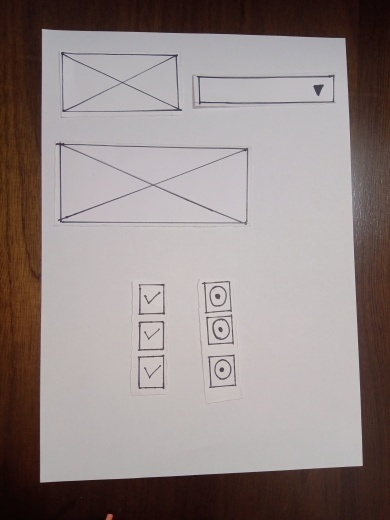checkbox: (135, 281, 169, 315), (135, 353, 169, 387), (132, 318, 166, 352)
dropdown: (196, 75, 333, 104)
img: (62, 142, 252, 228), (60, 54, 180, 113)
radio: (202, 282, 233, 314), (208, 351, 239, 383), (206, 318, 235, 345)
